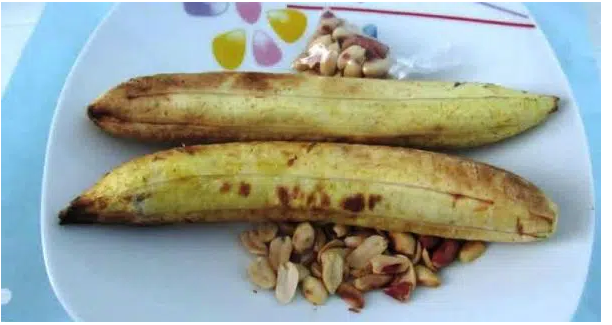arahides: (243, 232, 420, 289)
plantain braise: (93, 74, 555, 226)
